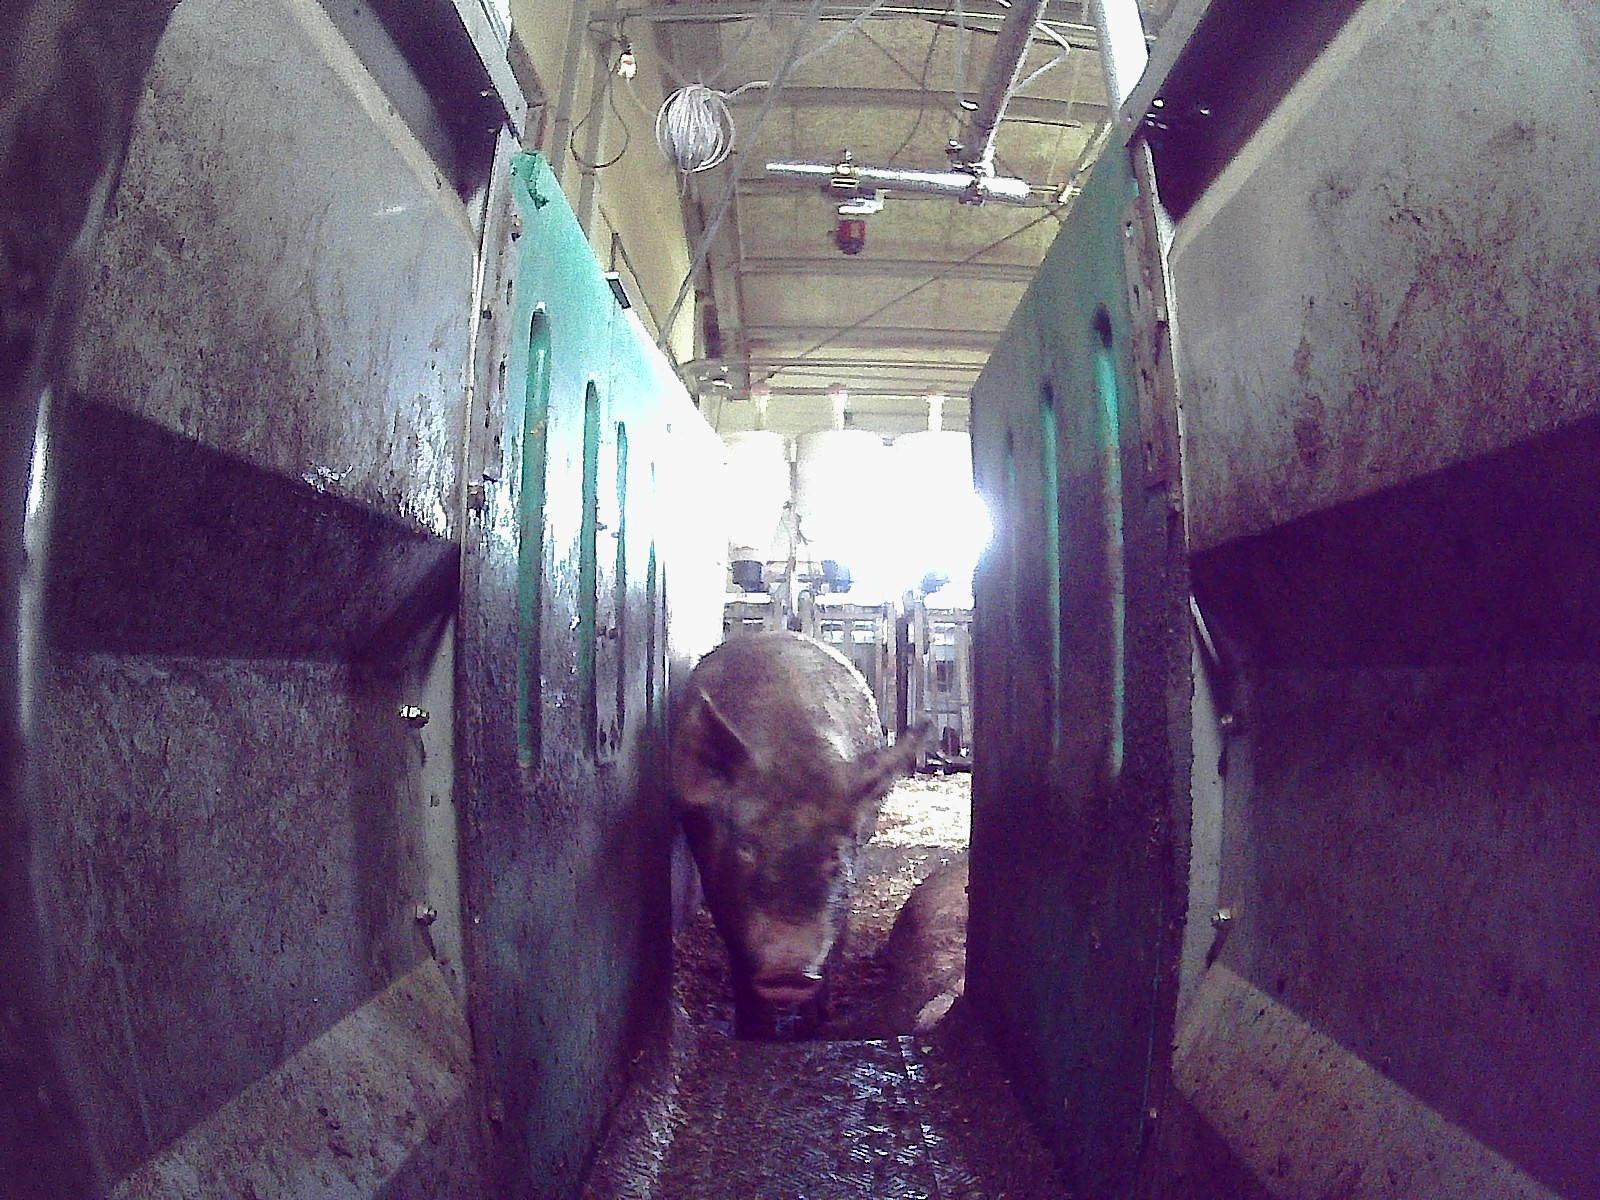Face: (717, 762, 857, 1003)
